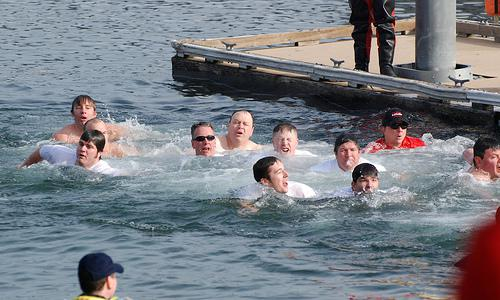human: (19, 128, 118, 171), (363, 109, 426, 149), (74, 249, 124, 299), (243, 153, 294, 202), (316, 134, 385, 170), (60, 94, 111, 136), (460, 137, 500, 180), (216, 109, 261, 147), (358, 163, 400, 194), (269, 119, 302, 156), (186, 122, 220, 156)
